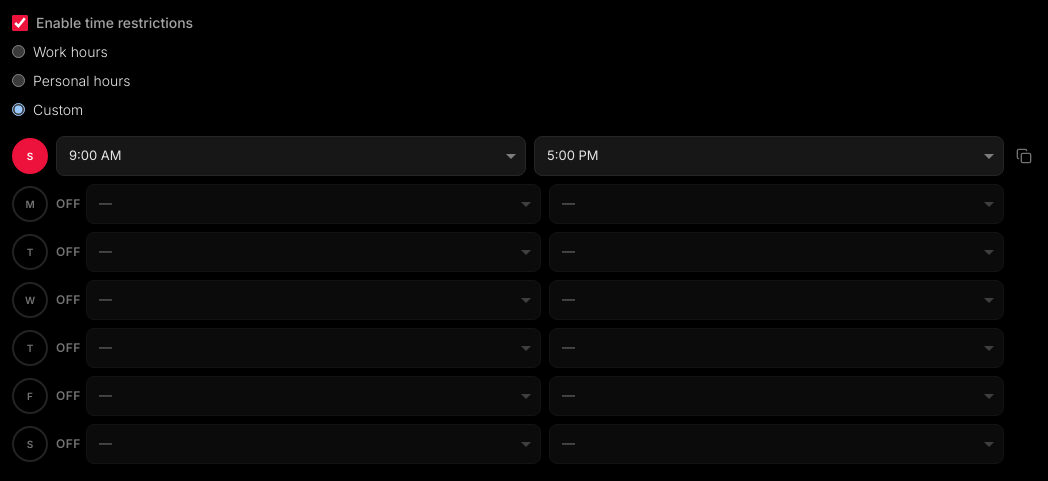
Test: RestrictionProfileEditor — copy/paste times › shows a cancel-copy indicator on the source day and paste buttons on the others after copying
Click the button with test id "restriction-copy-btn-0". click: (1024, 156)
box: [1014,146,1034,166]
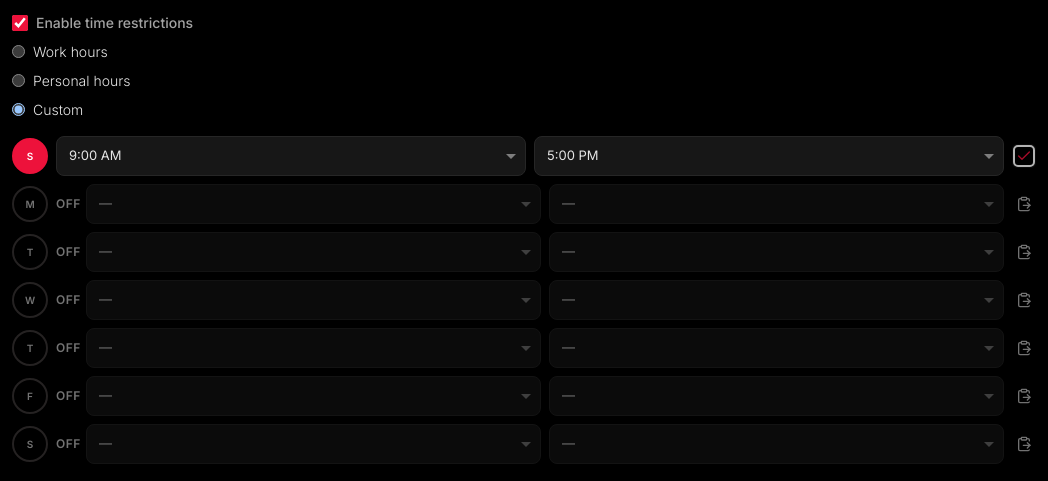
Now the button with test id "restriction-copy-active-0" is shown, box [1014,146,1034,166]
Now the button with test id "restriction-paste-btn-1" is shown, box [1014,194,1034,214]
Now the button with test id "restriction-paste-btn-2" is shown, box [1014,242,1034,262]
